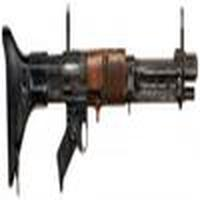gun: (1, 22, 200, 183)
